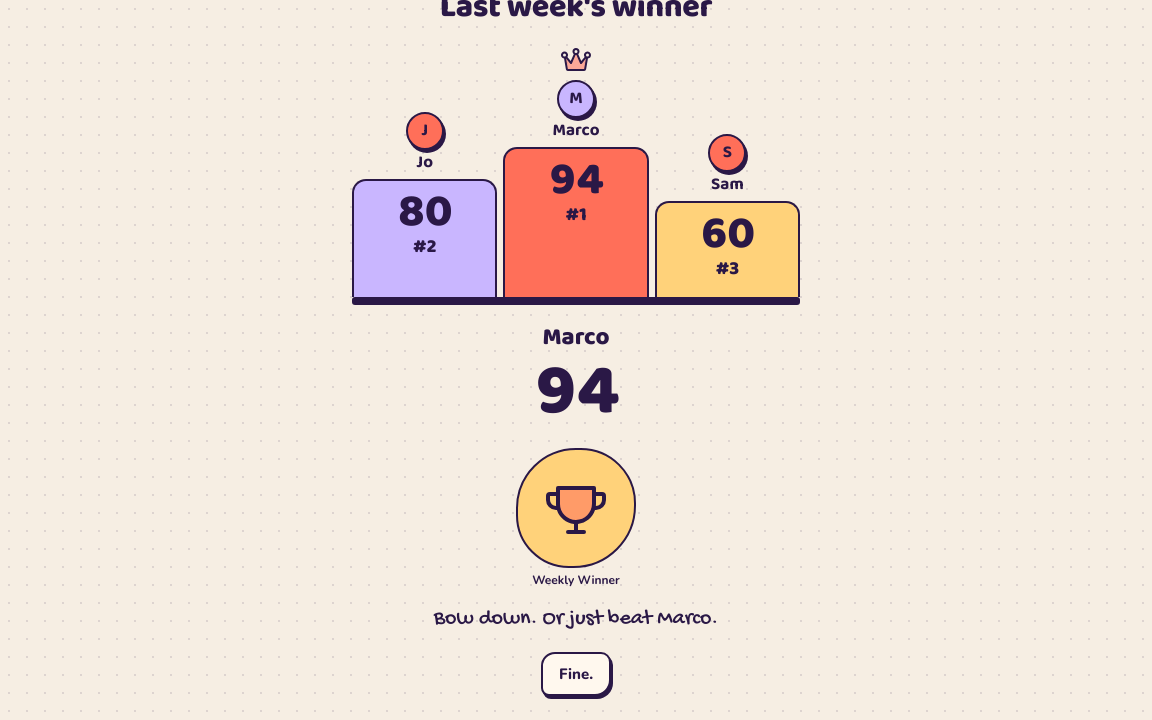
Scenario: Winner card deep link (Story 4.5) › shows the card even when seen; closing opens the Feed
The image size is (1152, 720).
(page scrolled)
Click the button "Fine." at (576, 674), box [541,652,611,696]
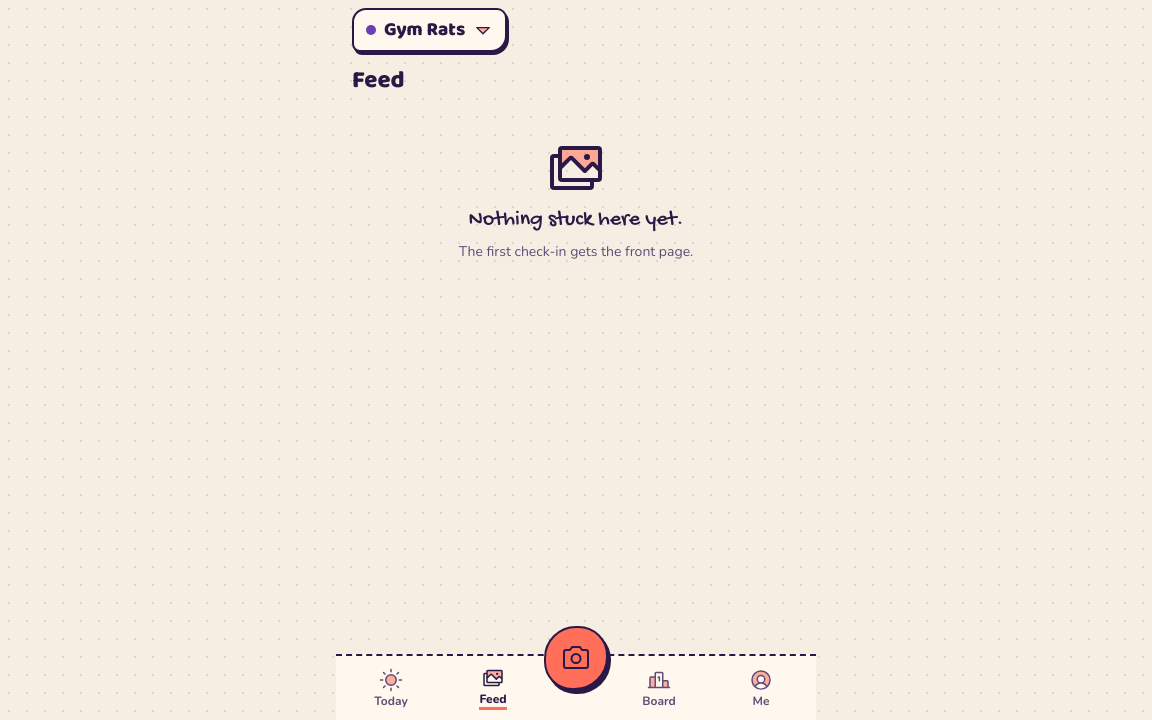
Expected: the dialog is gone
